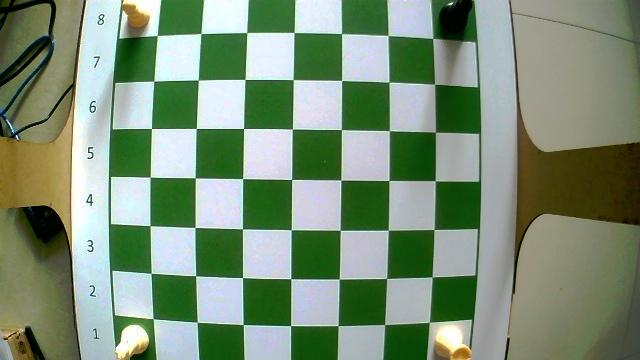piece: (434, 325, 471, 359), (116, 325, 148, 359), (121, 0, 149, 26)
